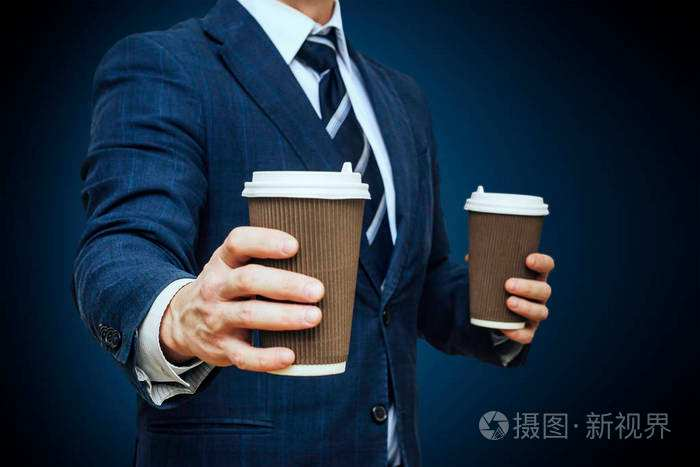no-phone: (165, 157, 373, 381), (462, 178, 555, 346)
